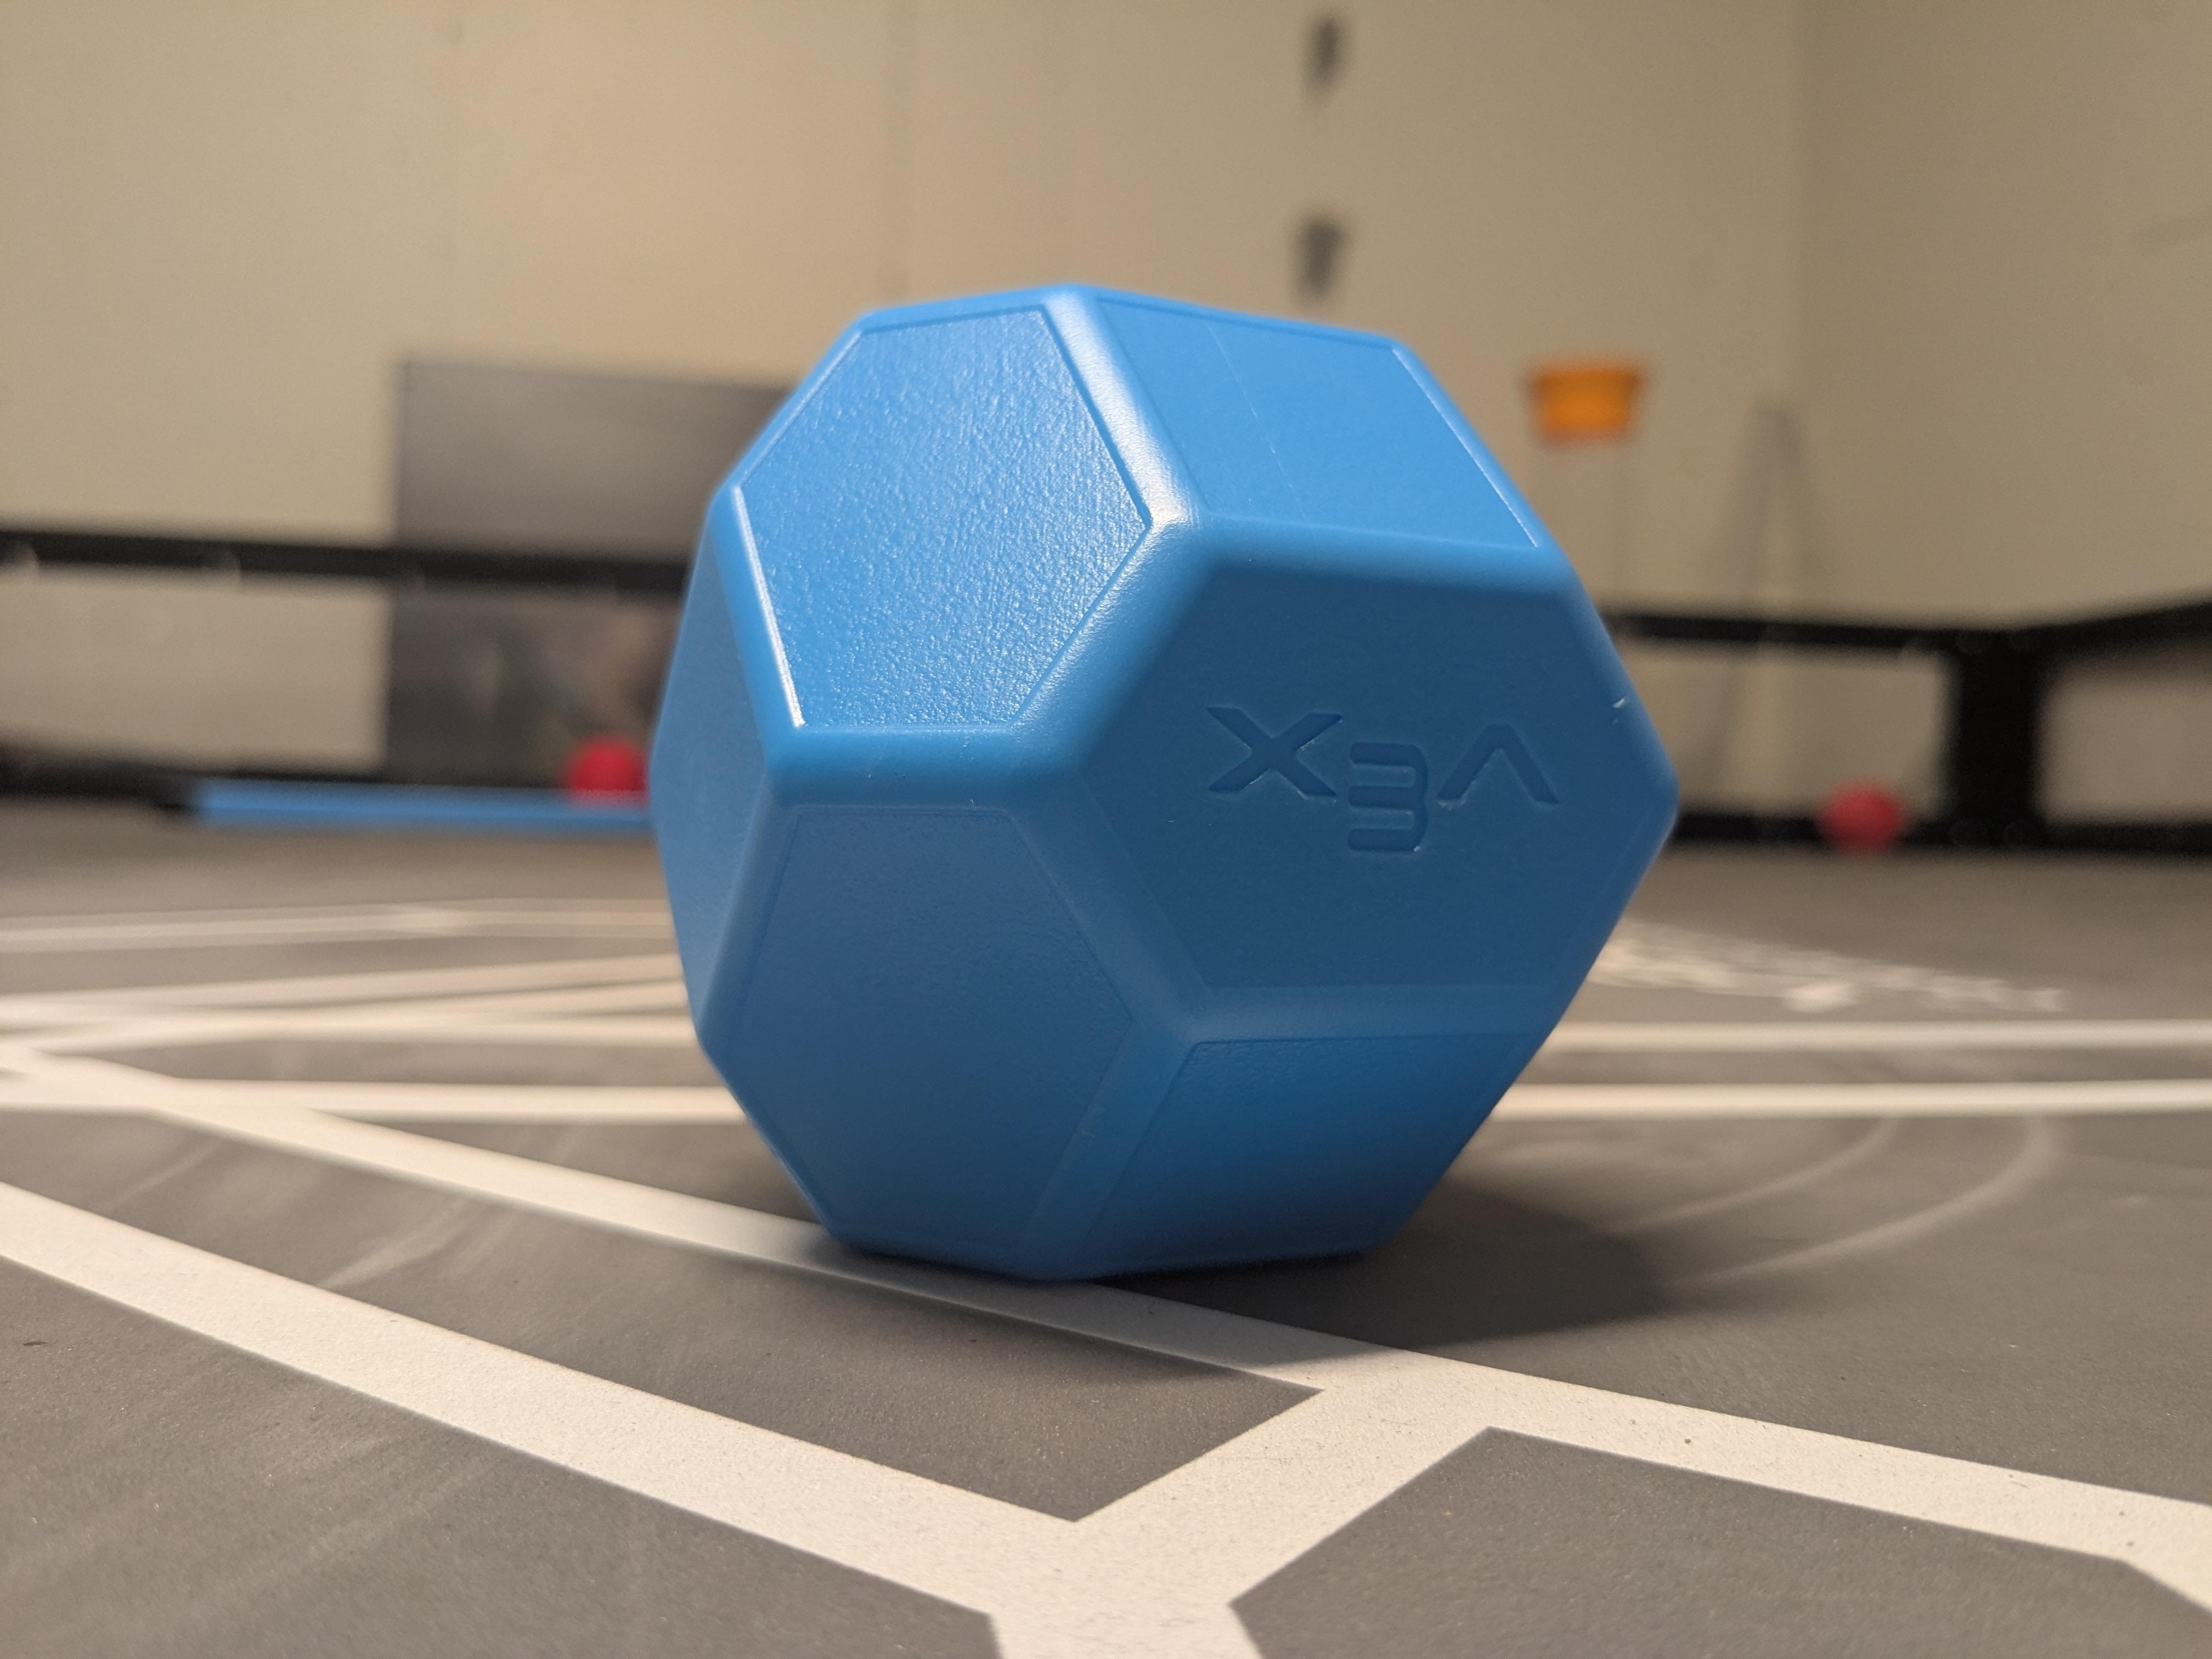Vex-Pieces-BLUE: (667, 279, 1686, 1291)
